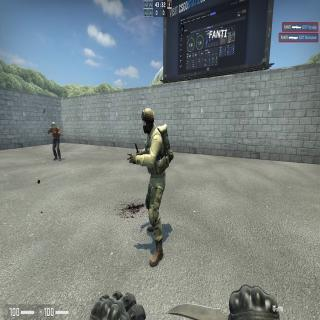CT-Body: (142, 108, 168, 264)
CT-Head: (141, 107, 155, 133)
T-Body: (49, 121, 60, 159)
T-Head: (51, 121, 55, 130)
